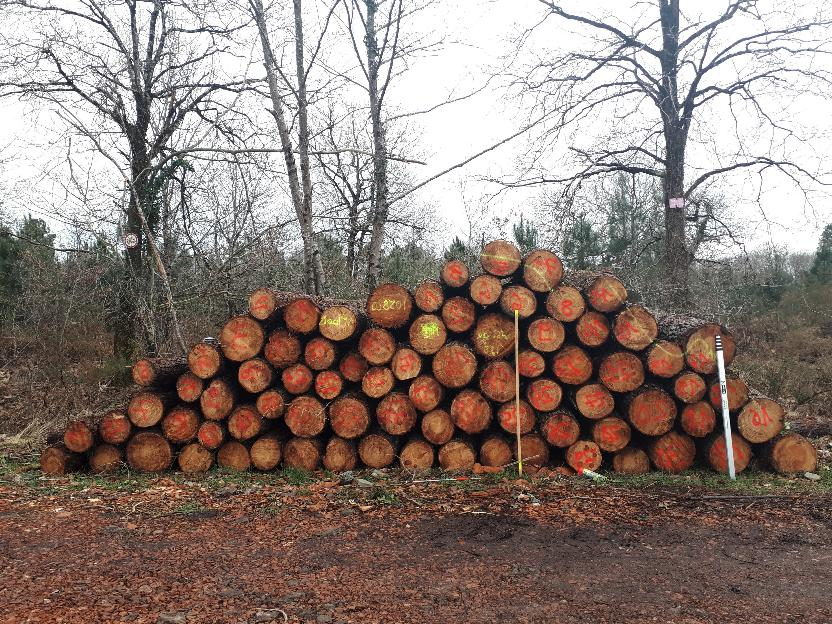etalon: (715, 332, 737, 480), (512, 308, 524, 480)
object: (684, 324, 738, 374), (628, 388, 680, 434), (474, 311, 520, 359), (220, 315, 266, 361), (738, 399, 784, 444), (450, 388, 492, 436), (370, 284, 414, 326), (616, 305, 658, 349), (436, 343, 478, 387), (600, 350, 644, 392), (710, 433, 754, 475), (126, 432, 172, 472), (773, 435, 819, 475), (523, 250, 563, 292), (480, 360, 520, 402), (377, 390, 415, 434), (407, 313, 448, 353), (330, 396, 370, 437), (286, 396, 324, 437), (200, 376, 235, 420), (318, 304, 358, 342), (552, 346, 592, 384), (586, 275, 628, 311), (546, 284, 586, 321), (162, 405, 200, 443), (648, 340, 684, 380), (480, 240, 522, 274), (592, 418, 633, 452), (360, 326, 396, 364), (226, 406, 264, 442), (656, 434, 692, 472), (266, 328, 300, 368), (709, 378, 749, 412), (574, 310, 611, 346), (503, 283, 539, 319), (680, 401, 716, 437), (128, 390, 162, 428), (498, 399, 536, 432), (441, 296, 475, 332), (286, 296, 320, 332), (239, 358, 273, 394), (410, 374, 444, 410), (542, 412, 578, 446), (420, 408, 452, 446), (578, 381, 612, 416), (281, 362, 315, 396), (515, 432, 549, 466), (528, 318, 564, 350), (304, 335, 336, 371), (528, 379, 564, 411), (567, 439, 603, 471), (98, 408, 131, 442), (284, 437, 318, 470), (249, 437, 282, 470), (188, 342, 220, 376), (390, 345, 422, 379), (360, 434, 392, 468), (325, 438, 357, 472), (440, 441, 476, 470), (40, 442, 70, 476), (402, 439, 433, 471), (63, 418, 92, 452), (178, 443, 212, 472), (218, 440, 248, 472), (89, 442, 119, 474), (614, 447, 650, 473), (480, 437, 511, 467), (258, 388, 286, 421), (516, 349, 546, 379), (474, 272, 502, 304), (340, 350, 368, 382), (364, 365, 392, 397), (676, 373, 708, 401), (178, 370, 204, 404), (413, 281, 442, 310), (248, 288, 276, 318), (442, 259, 470, 287), (315, 372, 342, 399), (132, 357, 158, 385), (199, 421, 222, 448)
pile: (36, 234, 826, 480)
